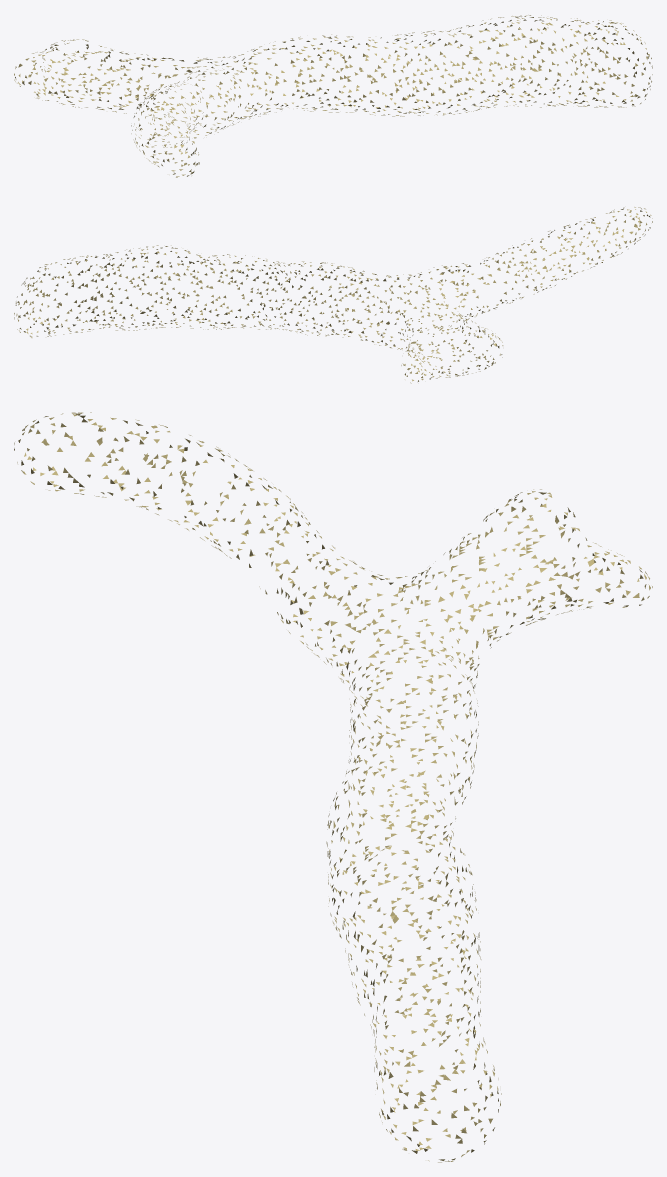
File: morph_008.glb
3 views of the same model, one above another, from view 1: azimuth 30°, elevation 25°; view 2: azimuth 150°, elevation 25°; view 3: azimuth 270°, elevation 25° (orthographic). The views are drawn at different scales.
Bounding box in the file's own units: 120 × 38.05 × 70.77.
